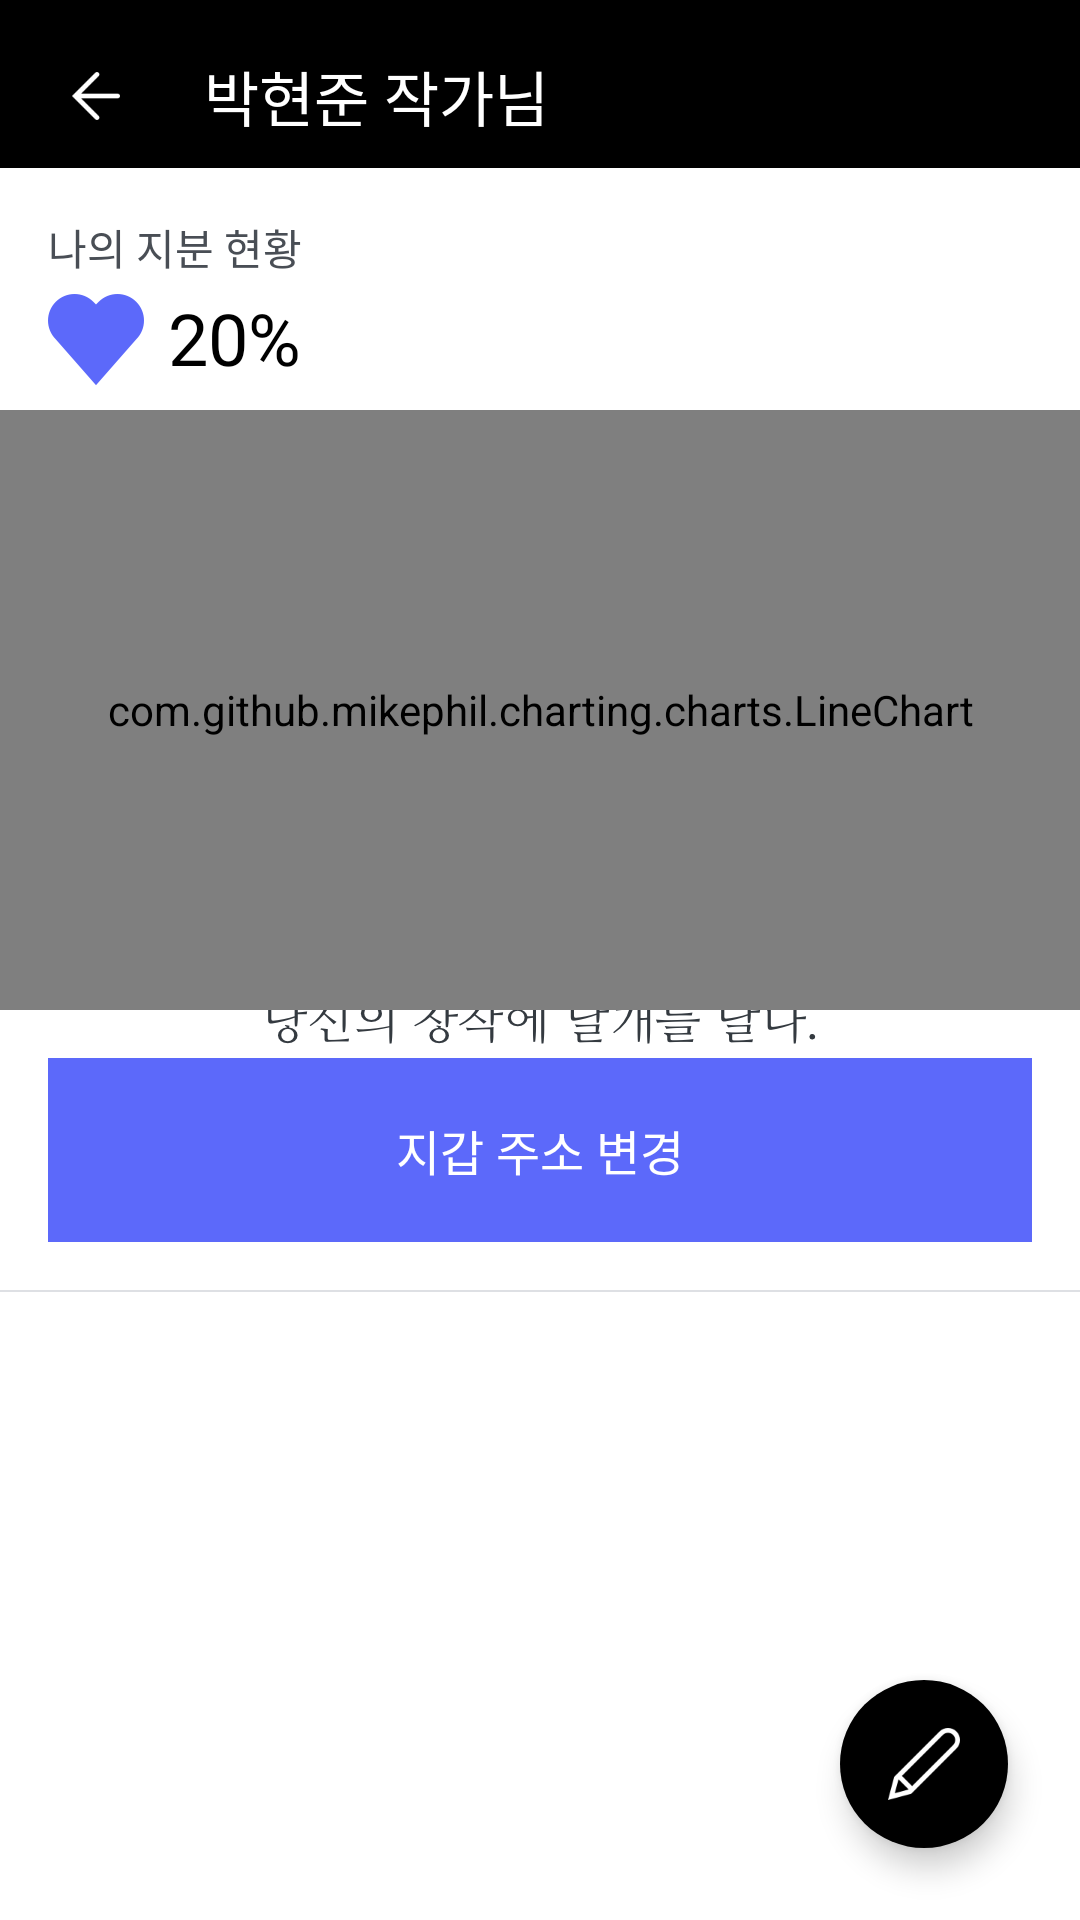

Icon click points for this 1080*1920 phone screenshot, format [x,y]:
back wh: [96,96]
like: [96,339]
mypage pencil: [924,1764]
